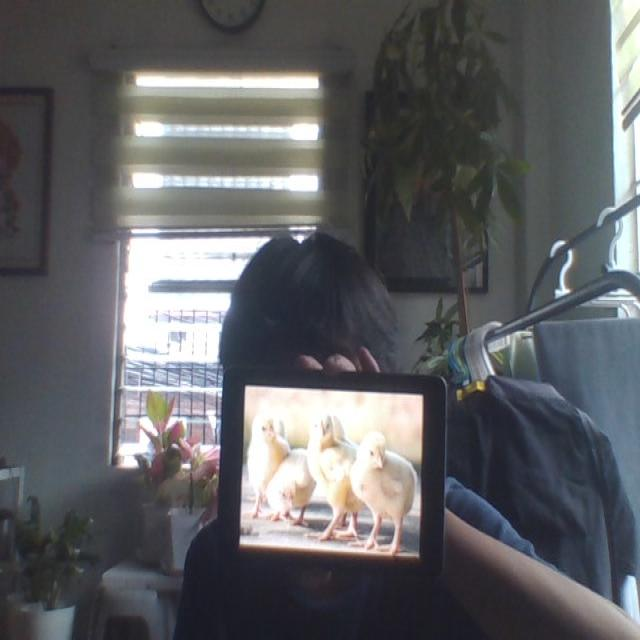Healthy: (350, 425, 411, 545), (305, 411, 359, 546), (246, 415, 284, 488)
Sick: (266, 447, 318, 537)
